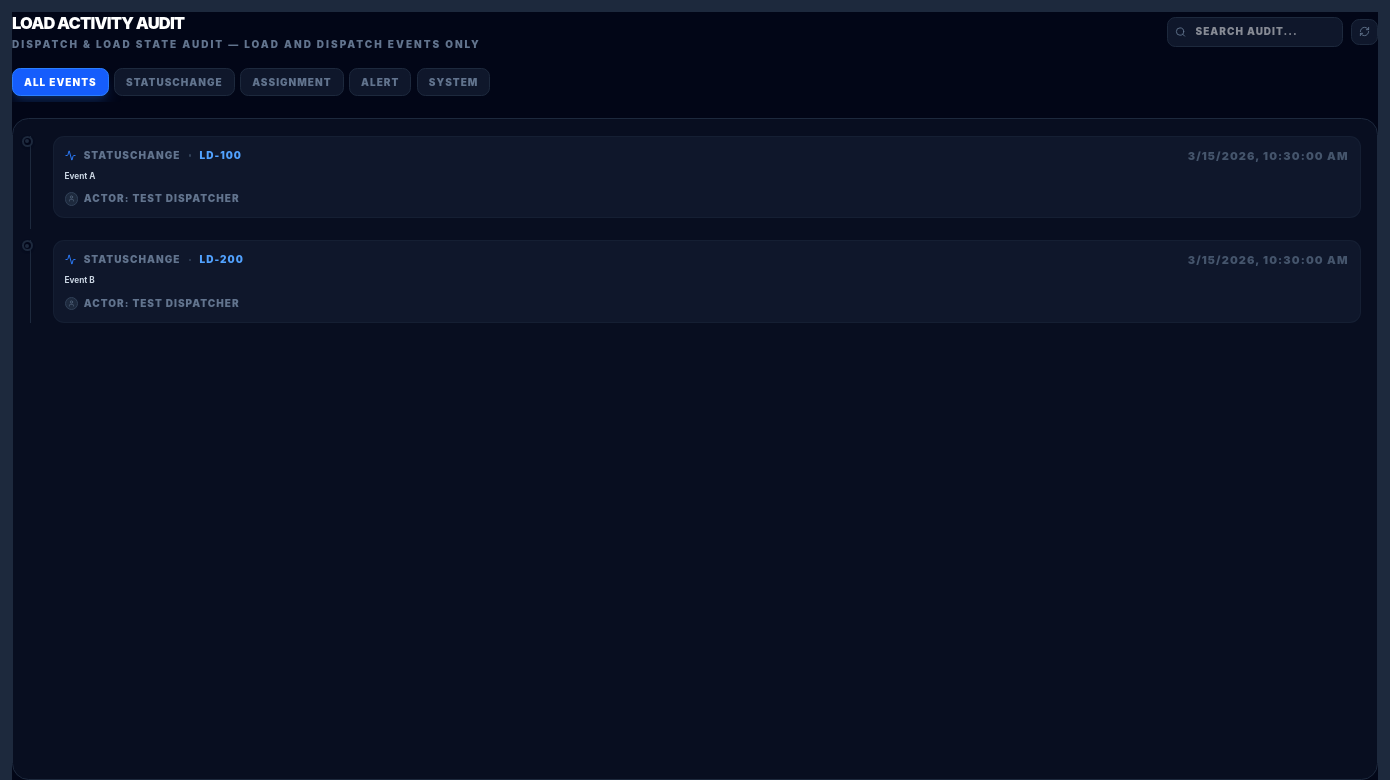
Test: AuditLogs component › searches by load number
Check: the text "Event A" is shown, box [64,171,96,181]
Type "LD-200" into the field with placeholder "SEARCH AUDIT..." at (1255, 32), box [1167,16,1343,47]
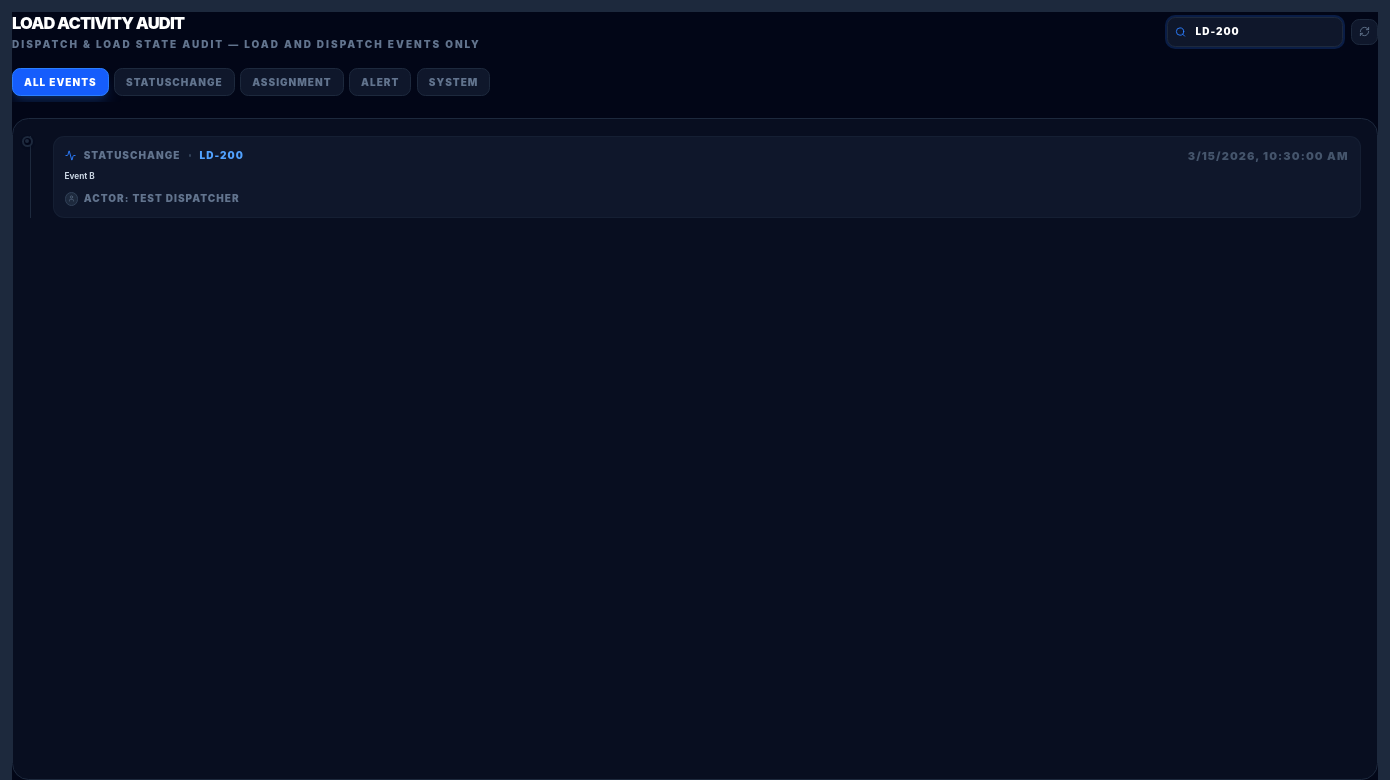
Check: the text "Event B" is shown, box [64,171,95,181]
Check: the text "Event A" is gone
